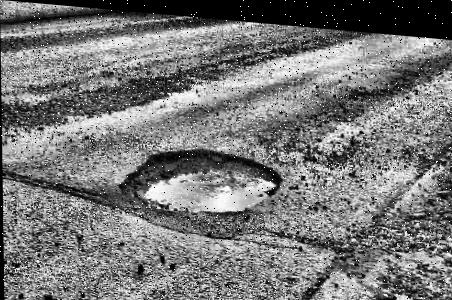pothole: (114, 136, 285, 216)
